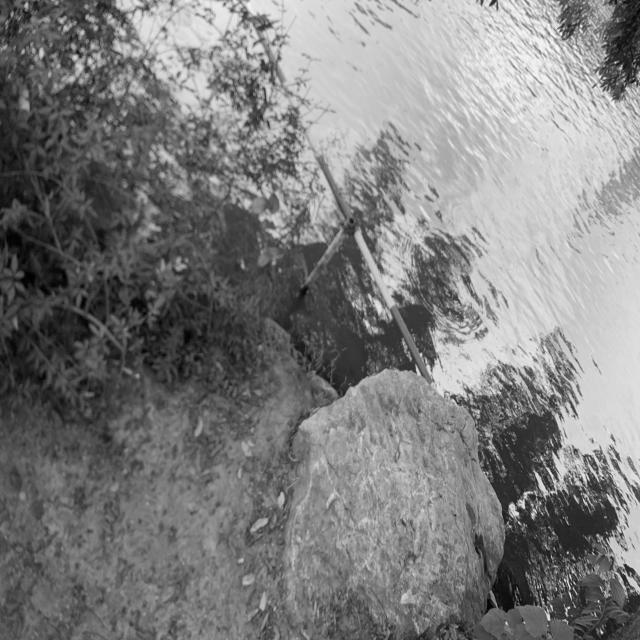Stone: (284, 370, 504, 640)
